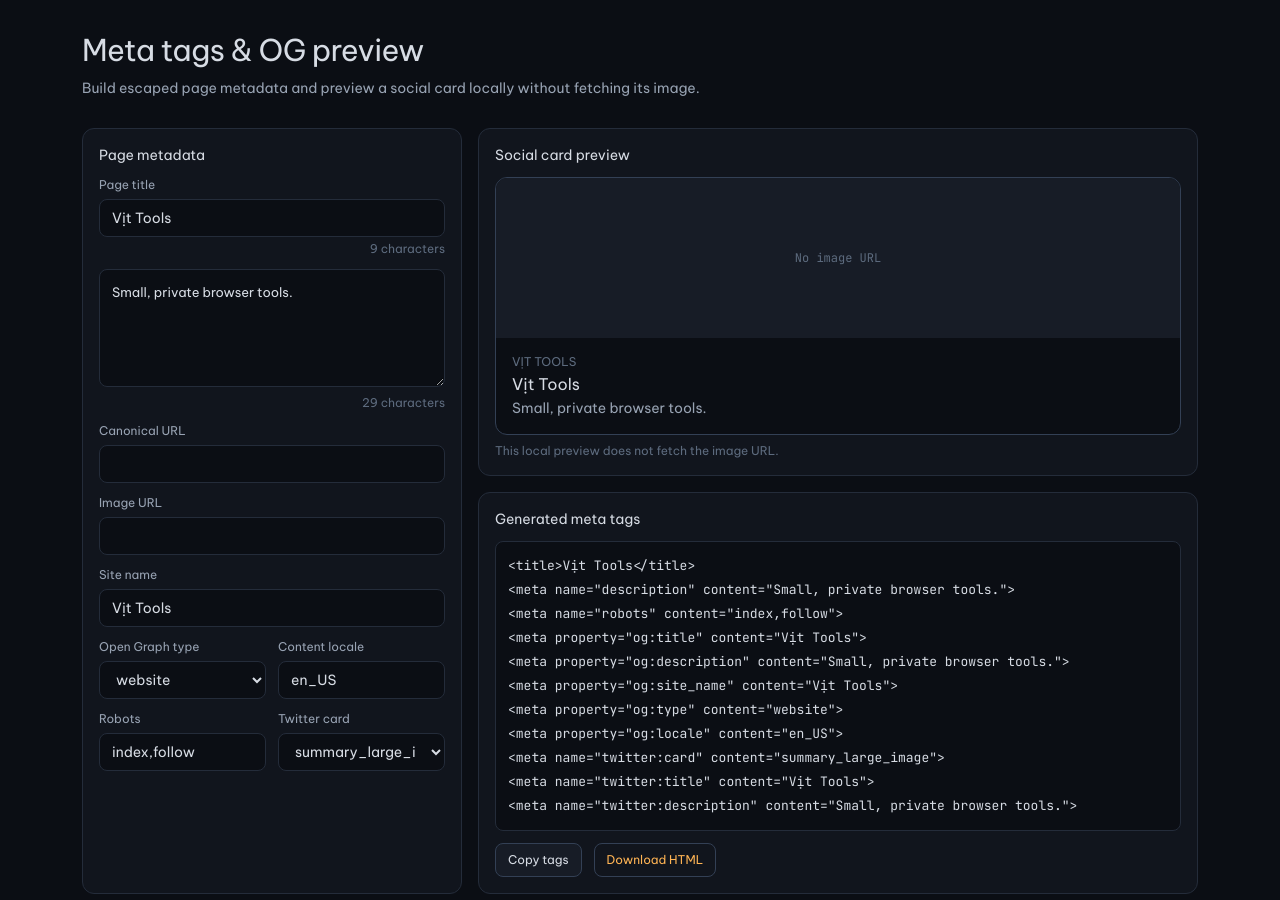
Scenario: Meta Tags tool › announces invalid URLs and shows character guidance
Replace the text in the field labelled "Page title" with "A title": (272, 218) [99,199,445,237]
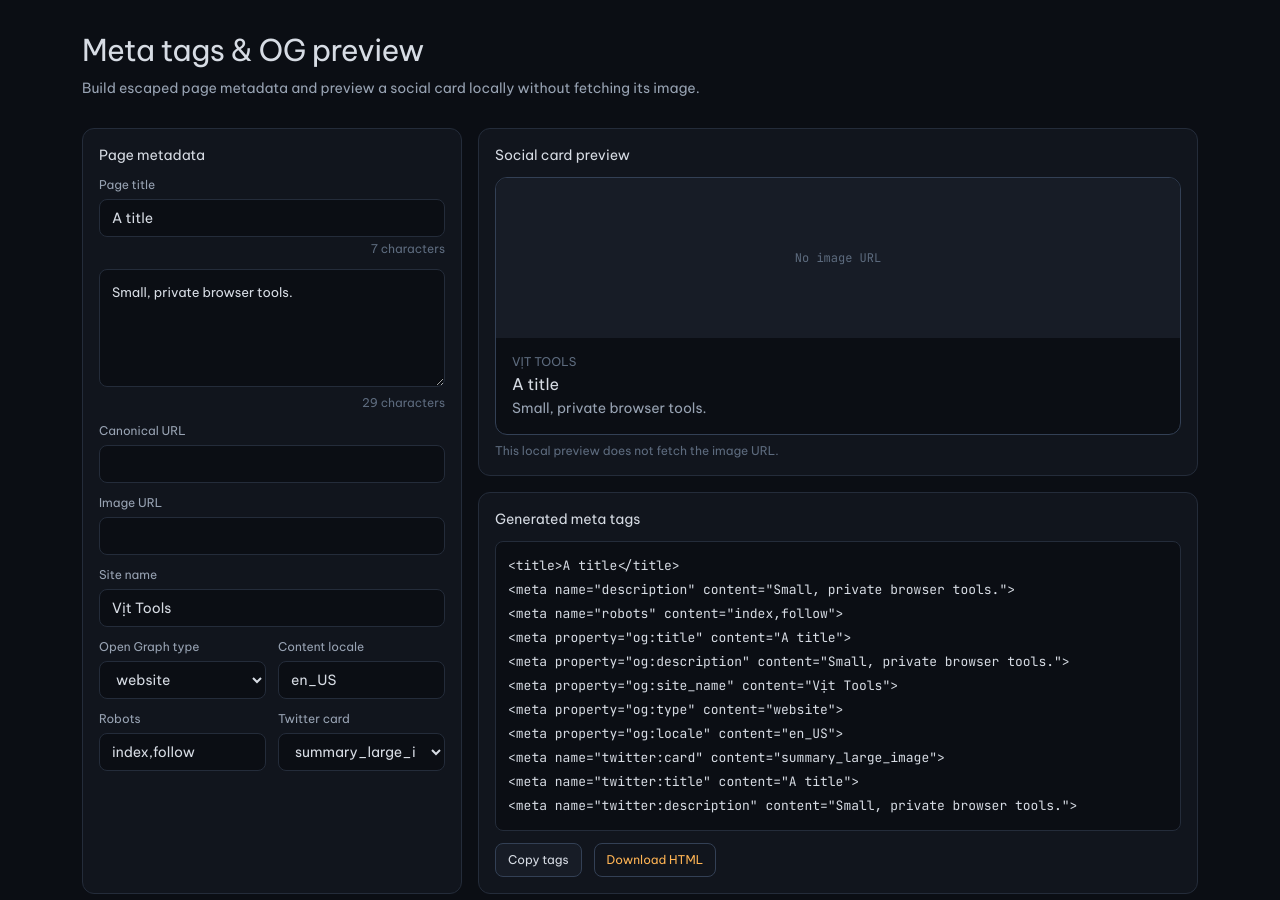
In the field labelled "Canonical URL": (272, 464) [99,445,445,483], type "javascript:alert(1)"
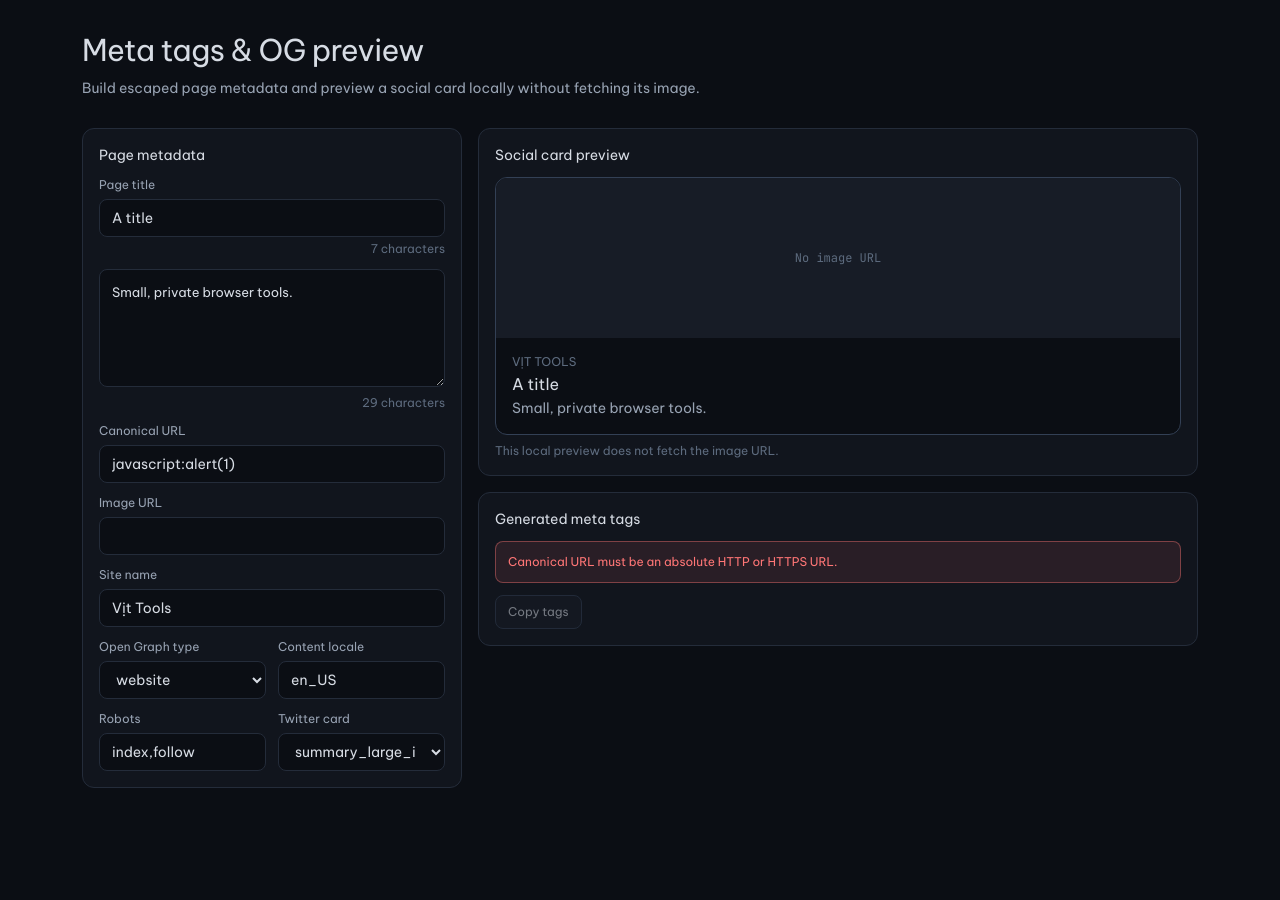
Expected: the text "7 characters" is shown, [371,241,445,256]
Expected: the message shows "HTTP", [508,554,837,569]
